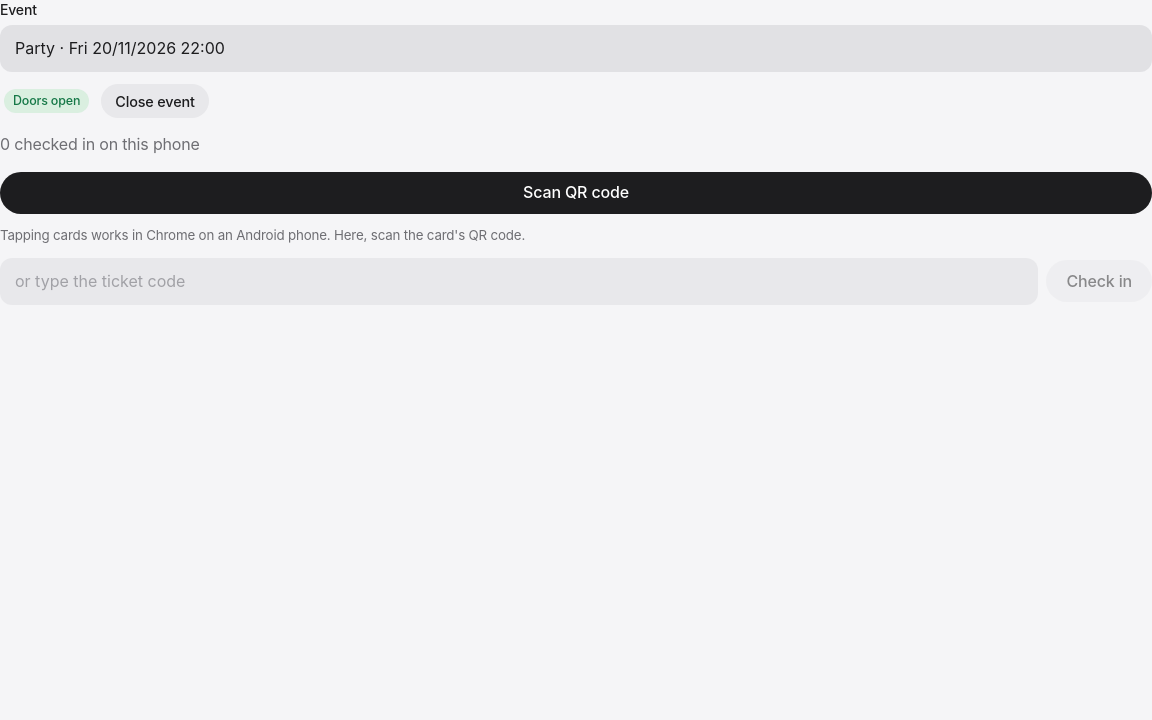
Test: DoorMode › scans tickets while open, and asks before closing the event
Expected: the button "Scan QR code" is shown, [0, 172, 1151, 214]
What coordinates should you click on to do the following:
click the button "Close event"
I would click on:
 (155, 101)
Its box is [101, 84, 209, 118].
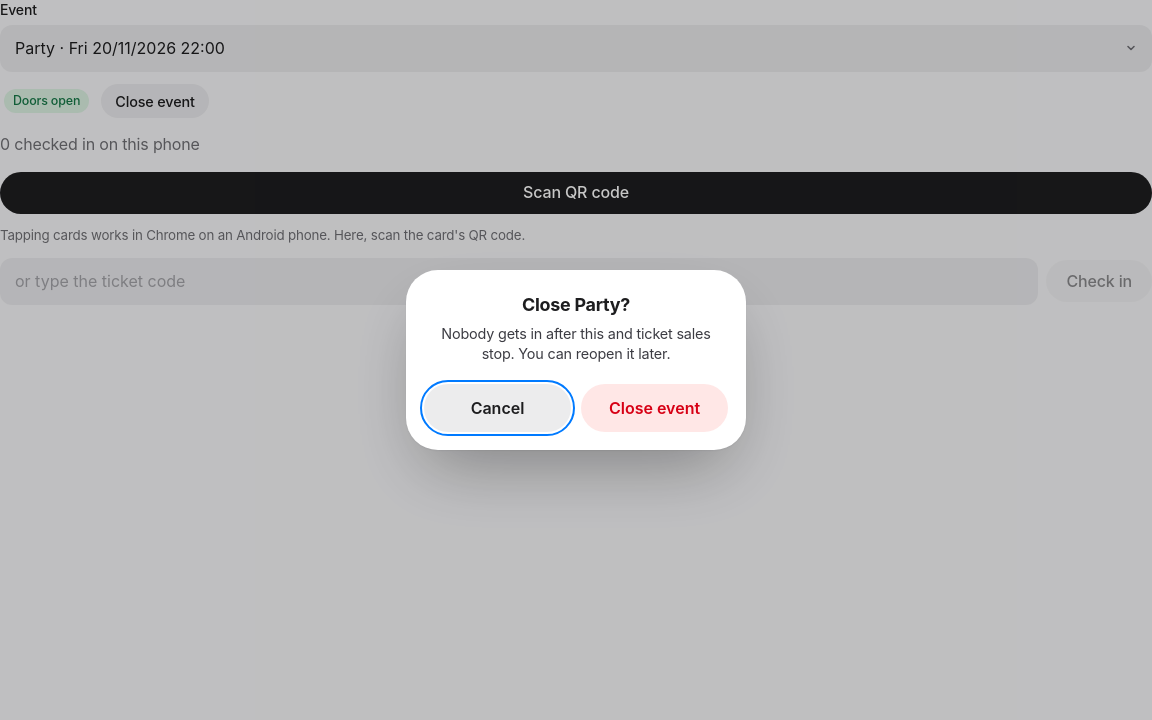
Result: the dialog "Close Party?" is shown at [406, 270, 746, 450]
